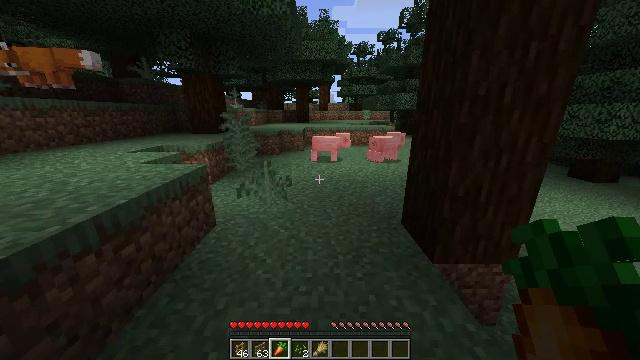pig: (310, 133, 351, 162), (368, 132, 406, 163)
